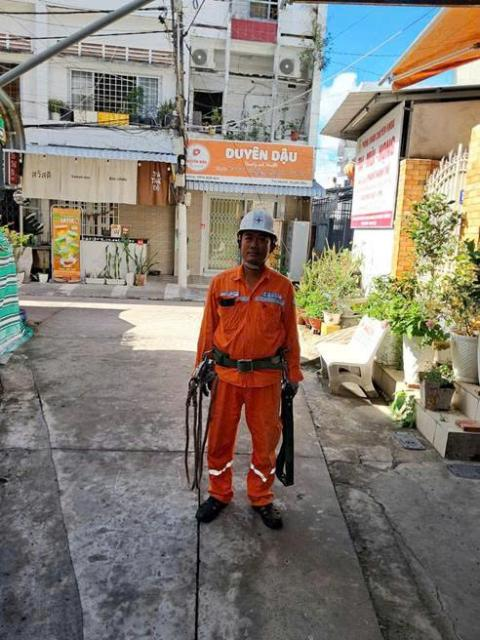gloves: (184, 374, 226, 401), (283, 377, 312, 405)
harness: (192, 339, 294, 374)
helmet: (233, 205, 279, 246)
shoes: (239, 481, 304, 535), (189, 482, 242, 527)
